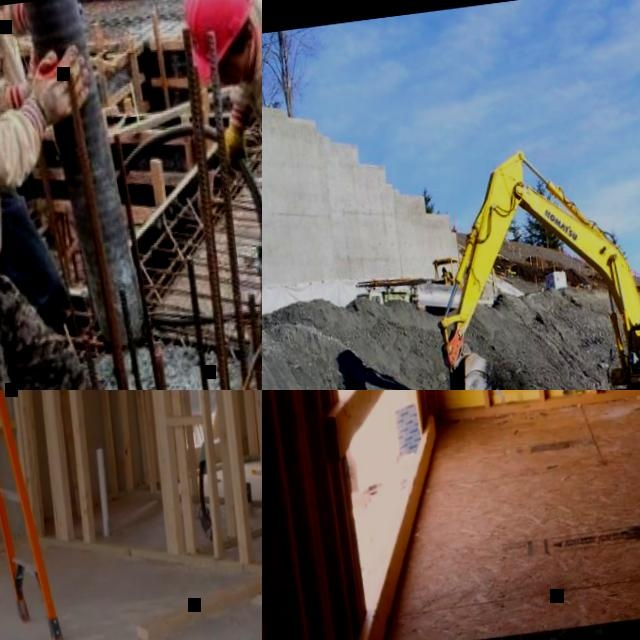Hardhat: (179, 0, 253, 79)
NO-Mask: (235, 65, 255, 89)
NO-Safety Vest: (0, 2, 27, 96)
Person: (0, 0, 180, 390), (173, 0, 262, 390), (441, 265, 454, 284)
Safety Vest: (442, 272, 451, 281)
machinery: (419, 124, 640, 390)
